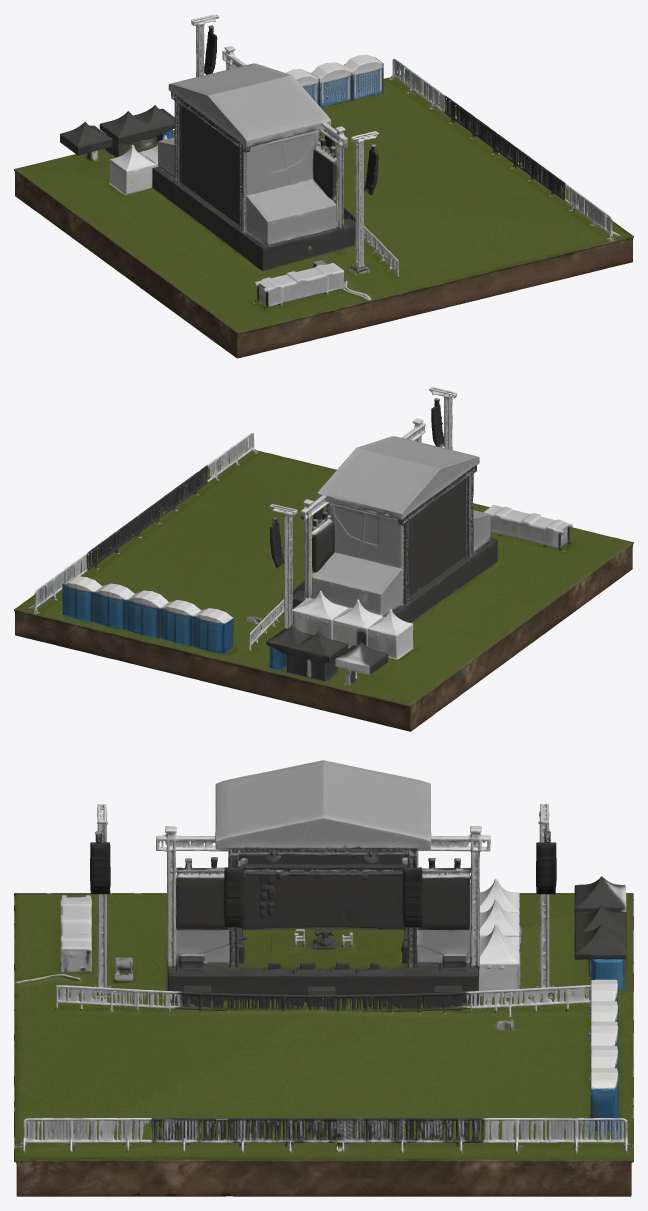
File: field.glb
The picture shows the model from 3 angles, top to bottom: view 1: azimuth 30°, elevation 25°; view 2: azimuth 150°, elevation 25°; view 3: azimuth 270°, elevation 25°; orthographic projection. The views are drawn at different scales.
Visible parts, largest first — view 1: tripo_node_fb580215-e41d-4f43-b583-e95602c1acf7; view 2: tripo_node_fb580215-e41d-4f43-b583-e95602c1acf7; view 3: tripo_node_fb580215-e41d-4f43-b583-e95602c1acf7.
Boxes of the visible parts, bbox=[...] form: tripo_node_fb580215-e41d-4f43-b583-e95602c1acf7: bbox=[14, 14, 633, 358]; tripo_node_fb580215-e41d-4f43-b583-e95602c1acf7: bbox=[14, 387, 633, 731]; tripo_node_fb580215-e41d-4f43-b583-e95602c1acf7: bbox=[14, 760, 633, 1196].
Size of the model in its own units: 1 by 0.3929 by 0.9795.
Materials: 1 (1 with a texture image).
